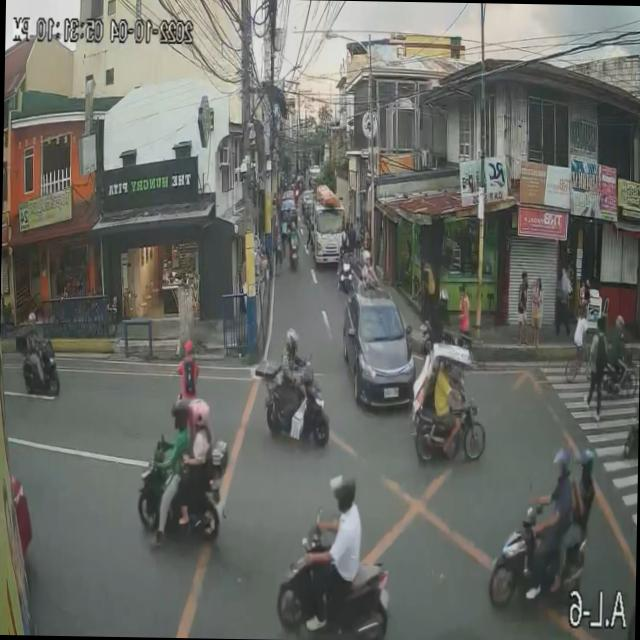full: (167, 392, 192, 435), (574, 444, 595, 482), (551, 446, 571, 480), (284, 326, 298, 354), (28, 312, 38, 334)
half: (328, 469, 356, 516), (189, 396, 210, 432)
